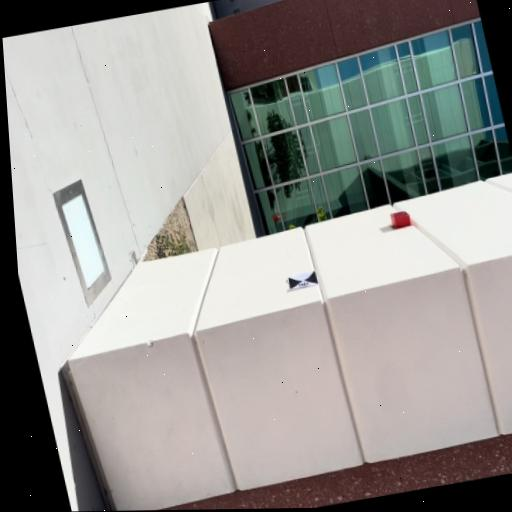target9: (288, 268, 320, 290)
